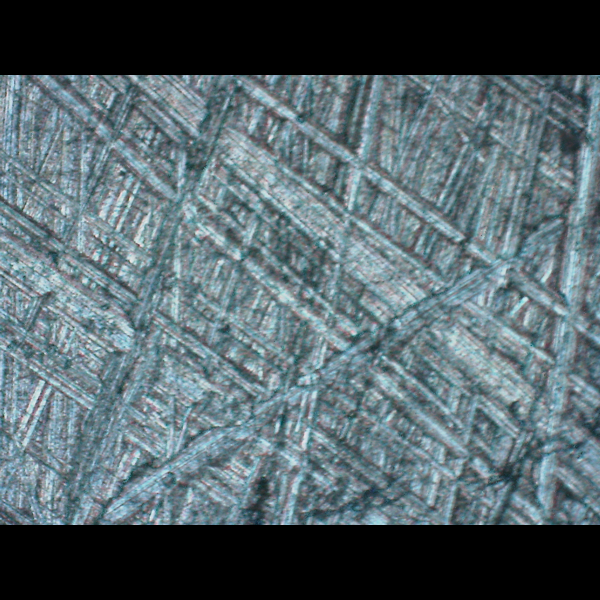d: (197, 122, 588, 508)
